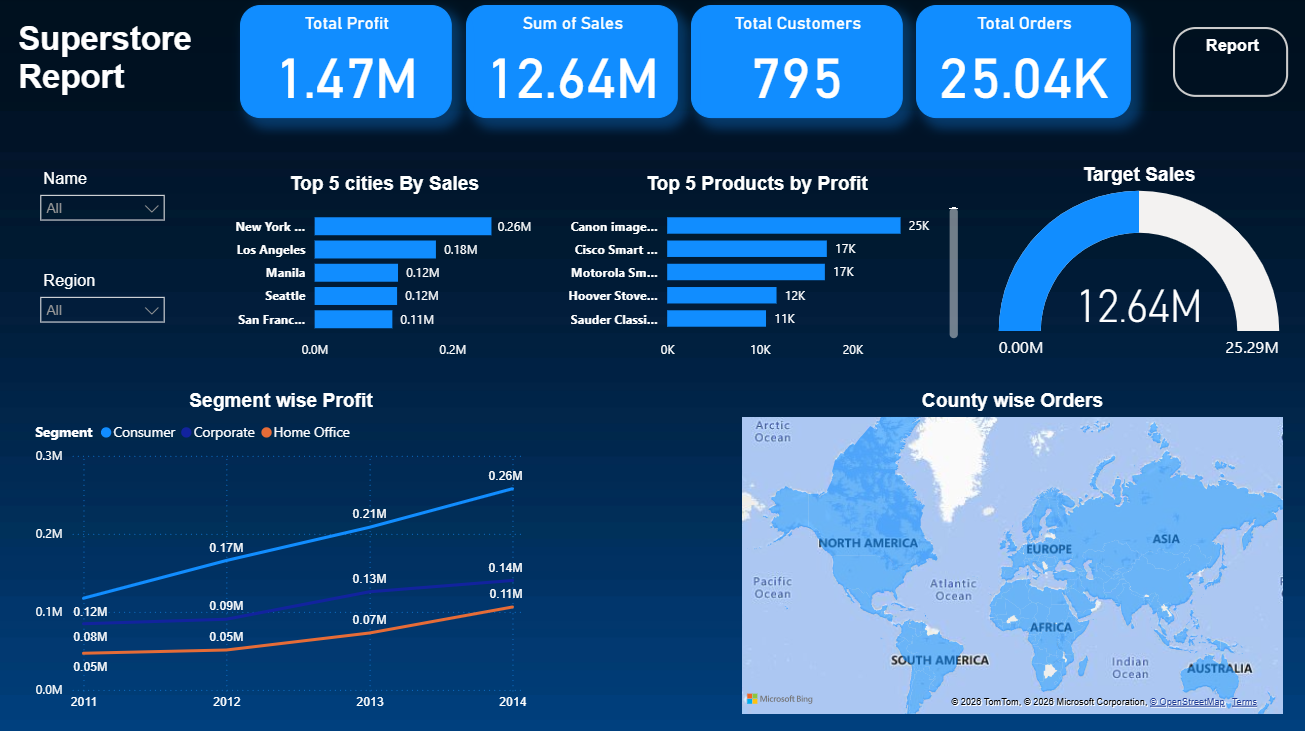

The page's visual inventory and layout, read from the dashboard file:
{"tool":"powerbi","page":{"name":"Page 1","canvas":[1280,720],"ordinal":0},"visuals":[{"type":"barChart","title":"Top 5 cities By Sales","fields":{"Category":["Orders.City"],"Y":["Sum(Orders.Sales)"]},"box":[213,170.2,323.9,189.7],"z":0},{"type":"card","title":"Total Customers","fields":{"Values":["Count(Orders.Customer Name)"]},"box":[673.1,6.8,206.2,109.9],"z":1000},{"type":"card","title":"Total Orders","fields":{"Values":["Count(Orders.Order ID)"]},"box":[891.9,6.8,209.1,109.9],"z":2000},{"type":"card","title":"Sum of Sales","fields":{"Values":["Sum(Orders.Sales)"]},"box":[454.2,6.8,206.2,109.9],"z":3000},{"type":"card","title":"Total Profit","fields":{"Values":["Sum(Orders.Profit)"]},"box":[234.4,6.8,206.2,109.9],"z":4000},{"type":"gauge","title":"Target Sales","fields":{"Y":["Sum(Orders.Sales)"]},"box":[937.6,161.5,342.4,198.4],"z":5000},{"type":"barChart","title":"Top 5 Products by Profit","fields":{"Category":["Orders.Product Name"],"Y":["Sum(Orders.Profit)"]},"box":[536.9,170.2,400.7,189.7],"z":6000},{"type":"lineChart","title":"Segment wise Profit","fields":{"Category":["Orders.Order Date.Variation.Date Hierarchy.Year"],"Y":["Sum(Orders.Profit)"],"Series":["Orders.Segment"]},"box":[30.2,381.3,488.3,320],"z":7000},{"type":"filledMap","title":"County wise Orders","fields":{"Category":["Orders.Country"]},"box":[717.8,381.3,535.9,320],"z":8000},{"type":"slicer","fields":{"Values":["Employees.Name"]},"box":[30.2,161.5,141,69.1],"z":9000},{"type":"slicer","fields":{"Values":["Employees.Region"]},"box":[30.2,260.7,141,69.1],"z":10000},{"type":"shape","title":"Report","box":[1141.9,28.2,111.9,68.1],"z":11000},{"type":"textbox","box":[13.6,0,230.5,135.2],"z":12000}]}

Visuals, with their boxes in screenshot pixels (x1, y1, x2, y2), scaled from the page's 1280x720 canvas onto the 1305x731 screenshot:
"Top 5 cities By Sales" barChart: Rect(217, 173, 547, 365)
"Total Customers" card: Rect(686, 7, 896, 118)
"Total Orders" card: Rect(909, 7, 1123, 118)
"Sum of Sales" card: Rect(463, 7, 673, 118)
"Total Profit" card: Rect(239, 7, 449, 118)
"Target Sales" gauge: Rect(956, 164, 1304, 365)
"Top 5 Products by Profit" barChart: Rect(547, 173, 956, 365)
"Segment wise Profit" lineChart: Rect(31, 387, 529, 712)
"County wise Orders" filledMap: Rect(732, 387, 1278, 712)
slicer - Employees.Name: Rect(31, 164, 175, 234)
slicer - Employees.Region: Rect(31, 265, 175, 335)
"Report" shape: Rect(1164, 29, 1278, 98)
textbox: Rect(14, 0, 249, 137)
